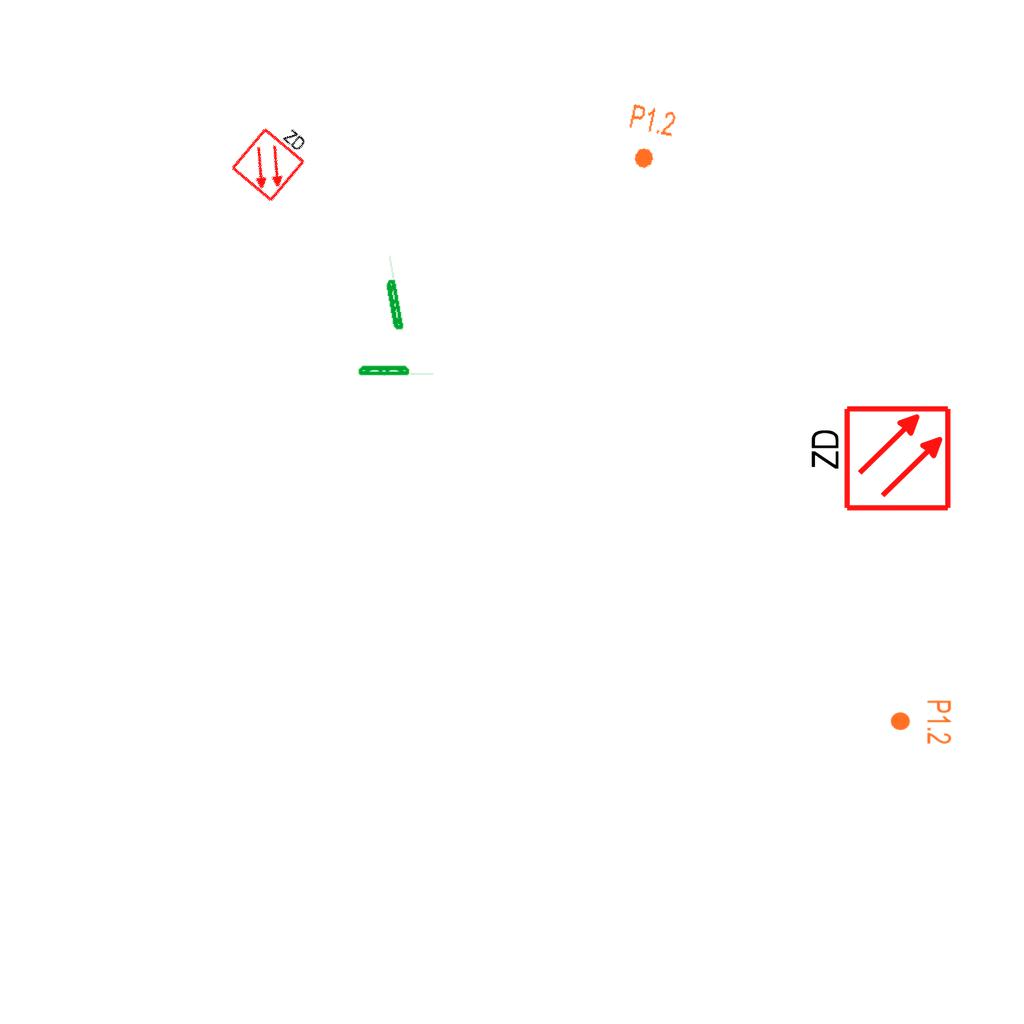Downlight_LED_Einbauleuchten_Flur: (619, 101, 679, 175), (889, 699, 953, 745)
Sicherheitsleuchte_Wandeinbau: (379, 252, 405, 333), (357, 364, 436, 376)
ZD_Melder_in_Zwischendecke_mit_Revisionsoeffnung_mind_40_x_40_cm: (804, 403, 953, 517), (227, 110, 320, 204)
